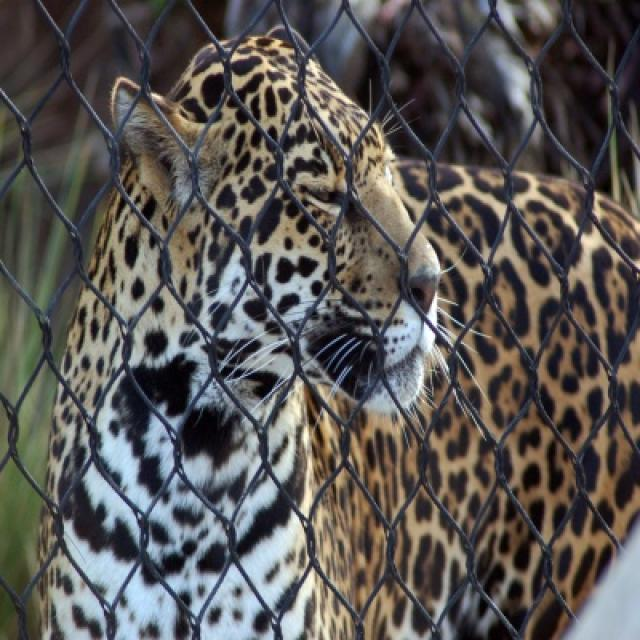Jaguar: (40, 27, 638, 638)
